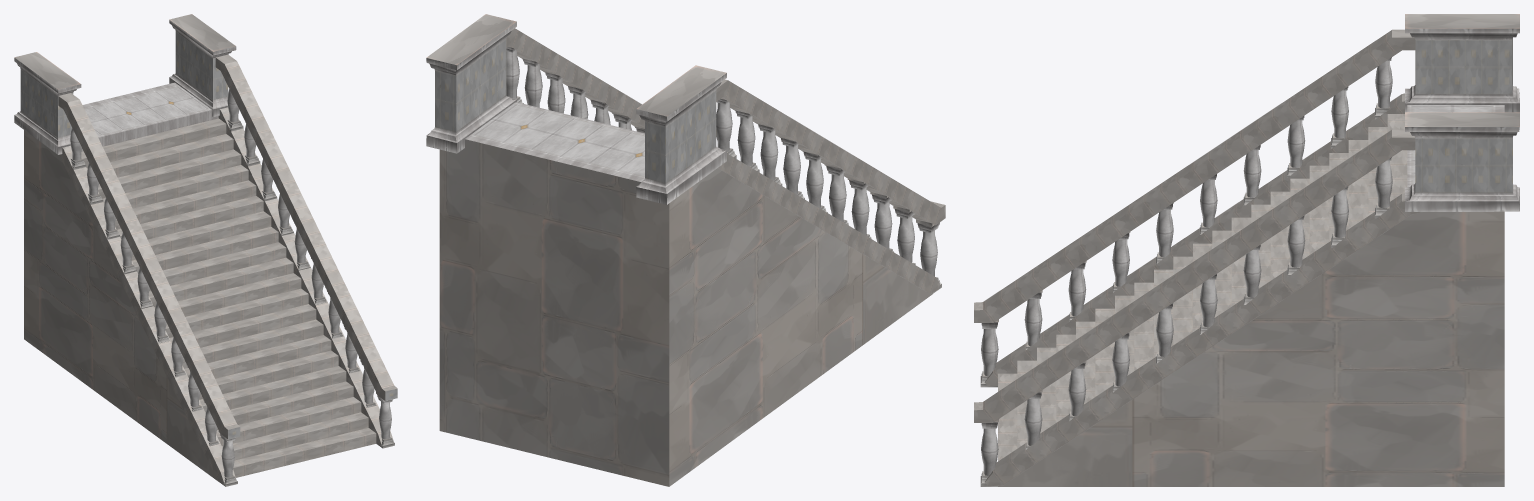
The model's file is Stairs.fbx.
3 views of the same model, side by side, from view 1: azimuth 30°, elevation 25°; view 2: azimuth 150°, elevation 25°; view 3: azimuth 270°, elevation 25° (orthographic). The views are drawn at different scales.
Visible parts, largest first — view 1: Stairs; view 2: Stairs; view 3: Stairs.
Part boxes in pixels (x1=…): Stairs: x1=14, y1=14, x2=397, y2=486; Stairs: x1=426, y1=14, x2=945, y2=486; Stairs: x1=974, y1=14, x2=1519, y2=486.
Size of the model in its own units: 531 by 795 by 1084.
